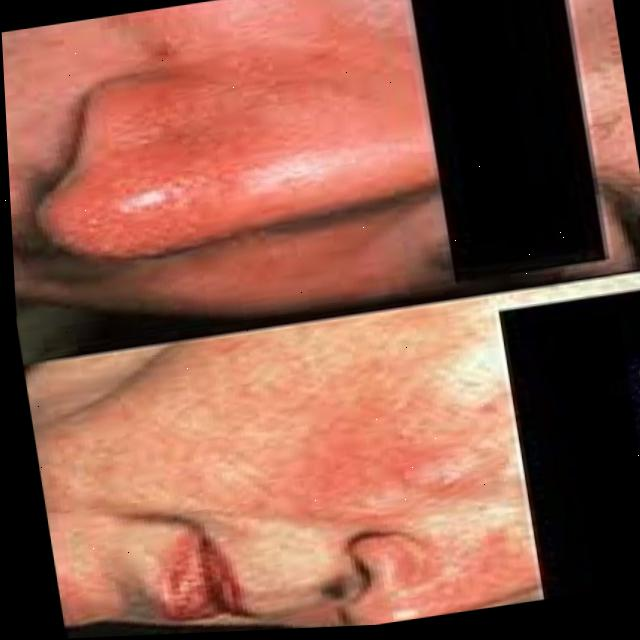Rosacea: (34, 17, 421, 266), (264, 354, 502, 530), (368, 515, 542, 623)
